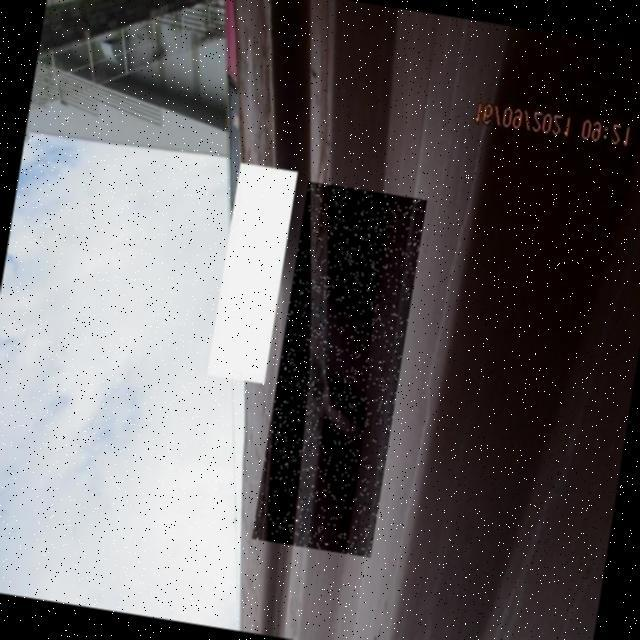Dent: (252, 179, 427, 557)
